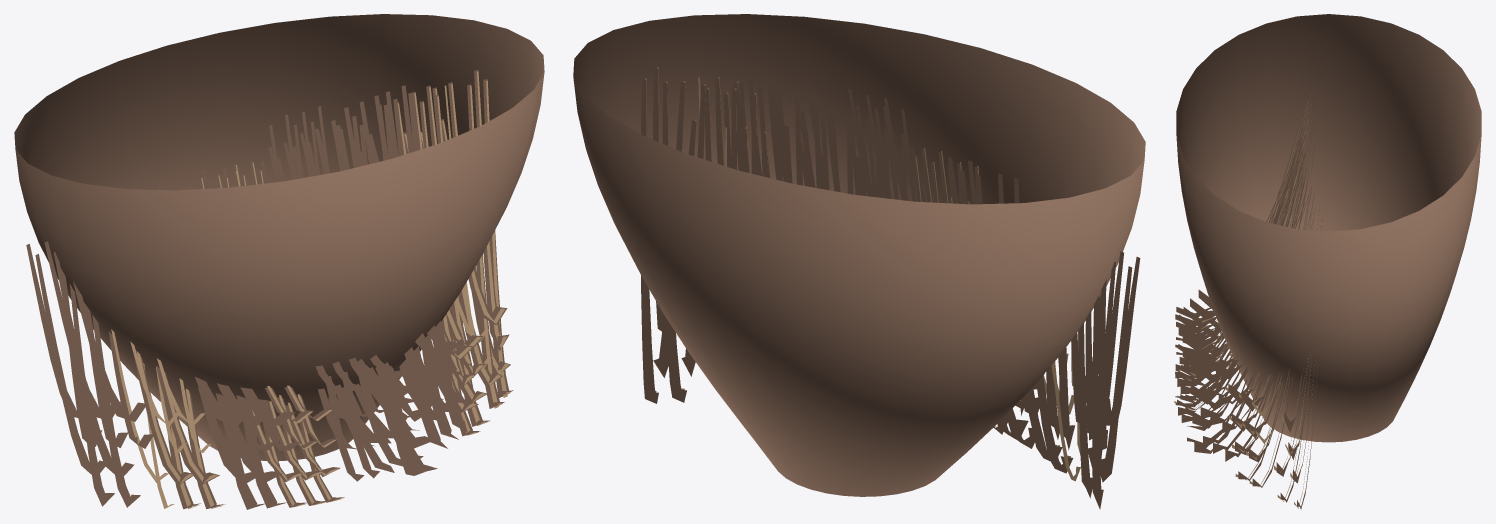
The model's file is mesh-crop.glb.
3 renders of one model, left to right at view 1: azimuth 30°, elevation 25°; view 2: azimuth 150°, elevation 25°; view 3: azimuth 270°, elevation 25°, orthographic. The views are drawn at different scales.
Parts seen in each view (by area): view 1: mesh-crop-cap, mesh-crop-strands, mesh-crop-highlights; view 2: mesh-crop-cap, mesh-crop-strands, mesh-crop-highlights; view 3: mesh-crop-cap, mesh-crop-strands, mesh-crop-highlights.
Boxes of the visible parts, x1,y1,x2,y2 form: mesh-crop-cap: [14, 14, 544, 460]; mesh-crop-strands: [26, 70, 513, 509]; mesh-crop-highlights: [111, 71, 510, 509]; mesh-crop-cap: [573, 14, 1145, 496]; mesh-crop-strands: [641, 68, 1140, 509]; mesh-crop-highlights: [645, 67, 1080, 481]; mesh-crop-cap: [1176, 14, 1481, 442]; mesh-crop-strands: [1175, 95, 1322, 509]; mesh-crop-highlights: [1174, 93, 1319, 508].
Size of the model in its own units: 1.49 by 0.9545 by 0.8797.
